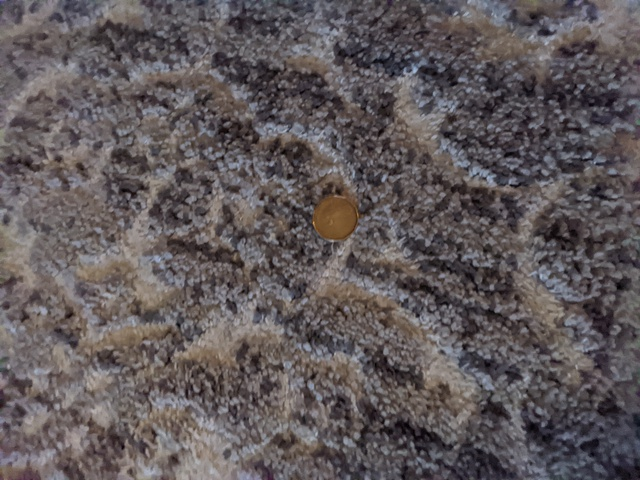loonie: (312, 193, 366, 248)
